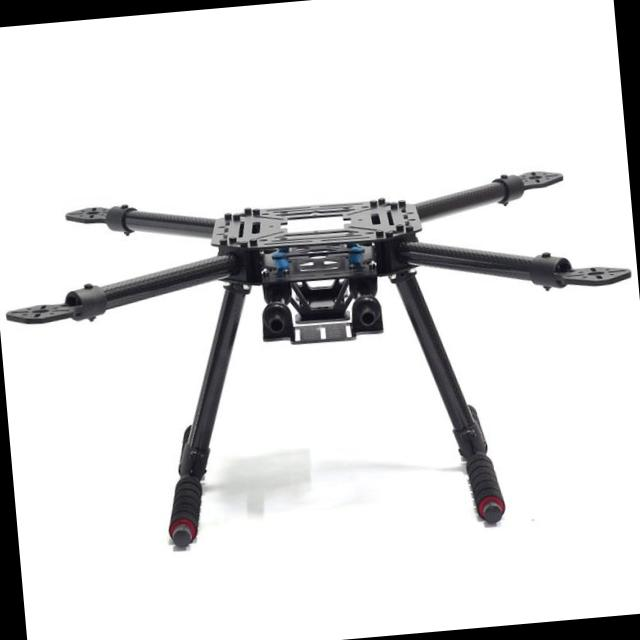drone: (10, 130, 640, 435)
